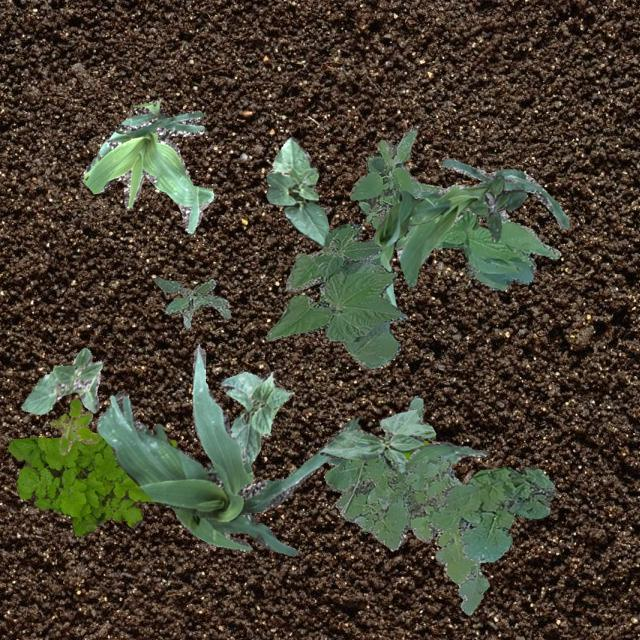crop: (95, 342, 358, 520), (394, 157, 568, 286), (266, 222, 406, 366), (152, 422, 296, 556), (80, 98, 212, 232), (416, 181, 560, 289), (368, 190, 449, 306), (318, 408, 434, 472), (326, 441, 486, 484), (266, 136, 328, 246), (220, 370, 292, 464), (20, 346, 101, 414)
weed: (324, 394, 488, 614), (7, 432, 175, 536), (426, 466, 554, 562), (348, 128, 421, 228), (153, 276, 230, 328), (468, 172, 526, 240), (48, 398, 98, 453), (402, 438, 428, 459)
